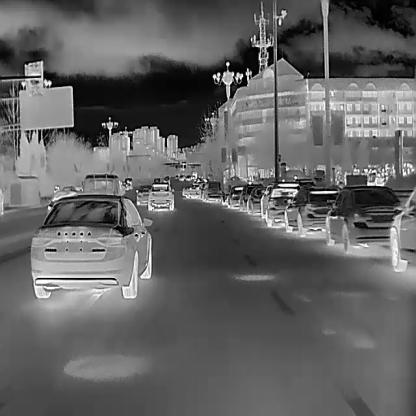bus: (191, 170, 196, 180)
car: (29, 194, 151, 298), (324, 185, 402, 251), (284, 186, 340, 232), (260, 181, 300, 225), (147, 184, 173, 210), (238, 183, 262, 210), (246, 187, 266, 213), (135, 184, 154, 206), (225, 185, 242, 209), (202, 180, 220, 201), (190, 182, 204, 198), (181, 184, 192, 198), (123, 177, 132, 189), (163, 176, 169, 184), (153, 177, 160, 183), (178, 175, 183, 180), (185, 176, 190, 180), (174, 174, 179, 178)
truck: (81, 172, 124, 198)
